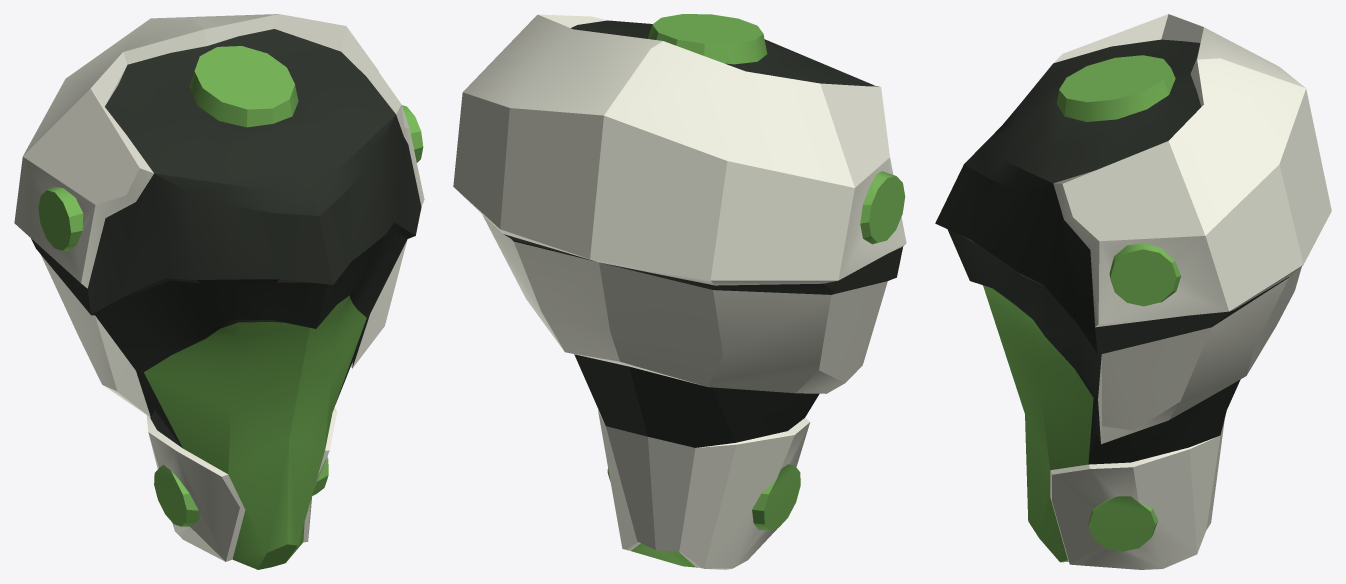
File: Torso_4.fbx
3 views of the same model, side by side, from view 1: azimuth 30°, elevation 25°; view 2: azimuth 150°, elevation 25°; view 3: azimuth 270°, elevation 25° (orthographic). The views are drawn at different scales.
Visible parts, largest first — view 1: Torso_4; view 2: Torso_4; view 3: Torso_4.
Boxes of the visible parts, x1,y1,x2,y2 form: Torso_4: (14,14,424,569); Torso_4: (453,14,906,569); Torso_4: (935,14,1331,569).
Size of the model in its own units: 66.92 by 88.23 by 63.71.
